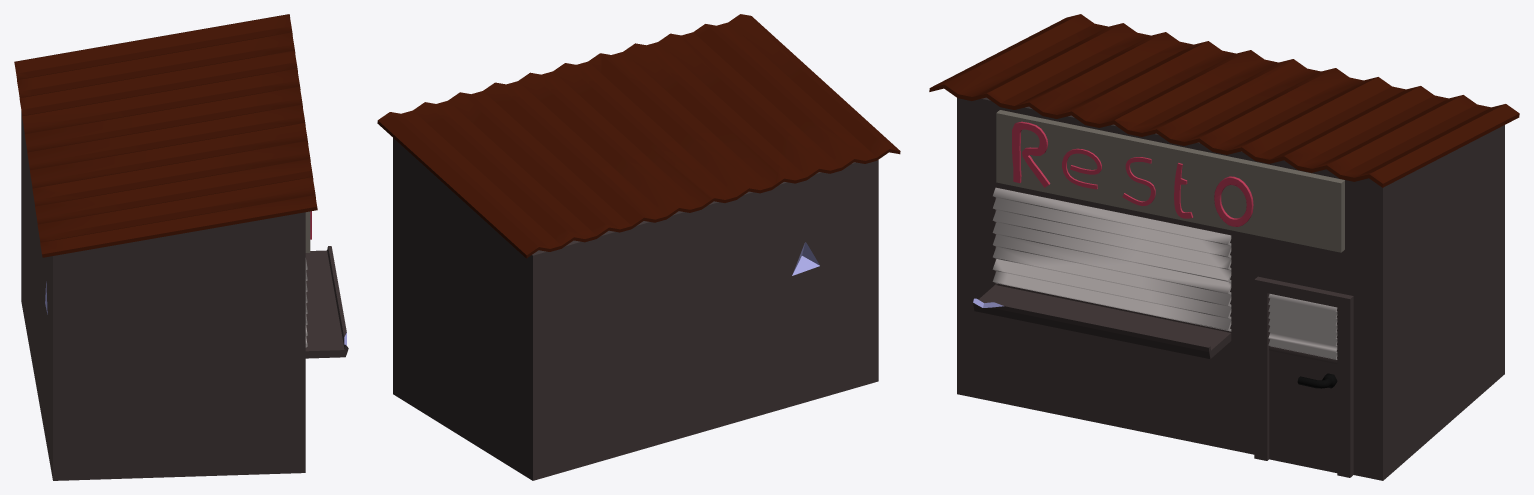
Rendered from RestoFrac.fbx.
The picture shows the model from 3 angles, left to right: view 1: azimuth 30°, elevation 25°; view 2: azimuth 150°, elevation 25°; view 3: azimuth 270°, elevation 25°; orthographic projection. The views are drawn at different scales.
Parts seen in each view (by area): view 1: poignet_resto11, poignet_resto24, poignet_resto5, poignet_resto7, poignet_resto9, poignet_resto17, poignet_resto35, poignet_resto8, poignet_resto6, poignet_resto13, poignet_resto30, poignet_resto15 (+17 smaller); view 2: poignet_resto40, poignet_resto6, poignet_resto3, poignet_resto37, poignet_resto20, poignet_resto14, poignet_resto7, poignet_resto35, poignet_resto12, poignet_resto8, poignet_resto22, poignet_resto13 (+11 smaller); view 3: poignet_resto32, poignet_resto16, poignet_resto18, poignet_resto39, poignet_resto14, poignet_resto40, poignet_resto6, poignet_resto33, poignet_resto4, poignet_resto8, poignet_resto17, poignet_resto7 (+9 smaller).
Part boxes in pixels (x1,y1,x2,y2): poignet_resto11: [81, 368, 228, 478]; poignet_resto24: [117, 269, 258, 371]; poignet_resto5: [63, 207, 209, 293]; poignet_resto7: [117, 57, 260, 132]; poignet_resto9: [192, 182, 317, 276]; poignet_resto17: [217, 330, 348, 475]; poignet_resto35: [22, 74, 139, 152]; poignet_resto8: [195, 123, 311, 208]; poignet_resto6: [14, 30, 199, 172]; poignet_resto13: [27, 132, 149, 199]; poignet_resto30: [218, 318, 305, 435]; poignet_resto15: [49, 322, 118, 425]; poignet_resto40: [420, 306, 622, 480]; poignet_resto6: [430, 147, 576, 328]; poignet_resto3: [604, 327, 777, 460]; poignet_resto37: [633, 200, 804, 330]; poignet_resto20: [738, 256, 870, 410]; poignet_resto14: [379, 116, 488, 318]; poignet_resto7: [472, 89, 647, 183]; poignet_resto35: [552, 145, 711, 246]; poignet_resto12: [535, 217, 669, 335]; poignet_resto8: [601, 28, 779, 94]; poignet_resto22: [772, 118, 870, 242]; poignet_resto13: [648, 128, 782, 206]; poignet_resto32: [1189, 143, 1383, 352]; poignet_resto16: [983, 263, 1171, 433]; poignet_resto18: [957, 91, 1142, 266]; poignet_resto39: [1193, 326, 1384, 478]; poignet_resto14: [1327, 141, 1446, 365]; poignet_resto40: [1407, 202, 1504, 436]; poignet_resto6: [1359, 104, 1519, 273]; poignet_resto33: [1127, 215, 1263, 359]; poignet_resto4: [1112, 115, 1280, 217]; poignet_resto8: [990, 65, 1169, 217]; poignet_resto17: [957, 247, 1013, 405]; poignet_resto7: [1177, 91, 1378, 153].
Size of the model in its own units: 186 by 128 by 219.
